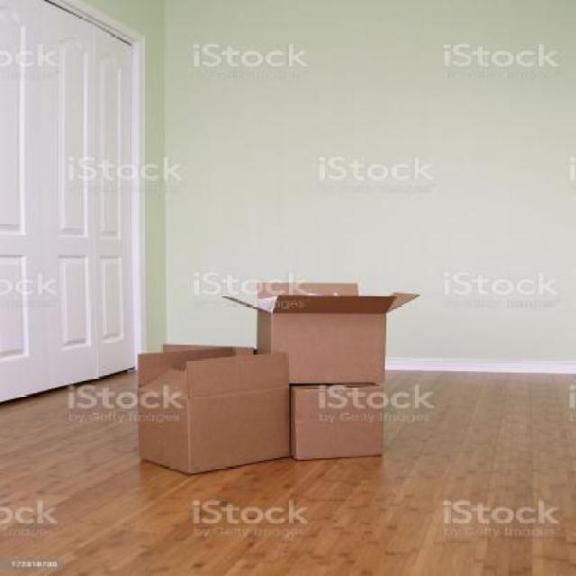Kertas: (139, 352, 282, 454), (266, 297, 383, 373), (293, 385, 380, 462)
